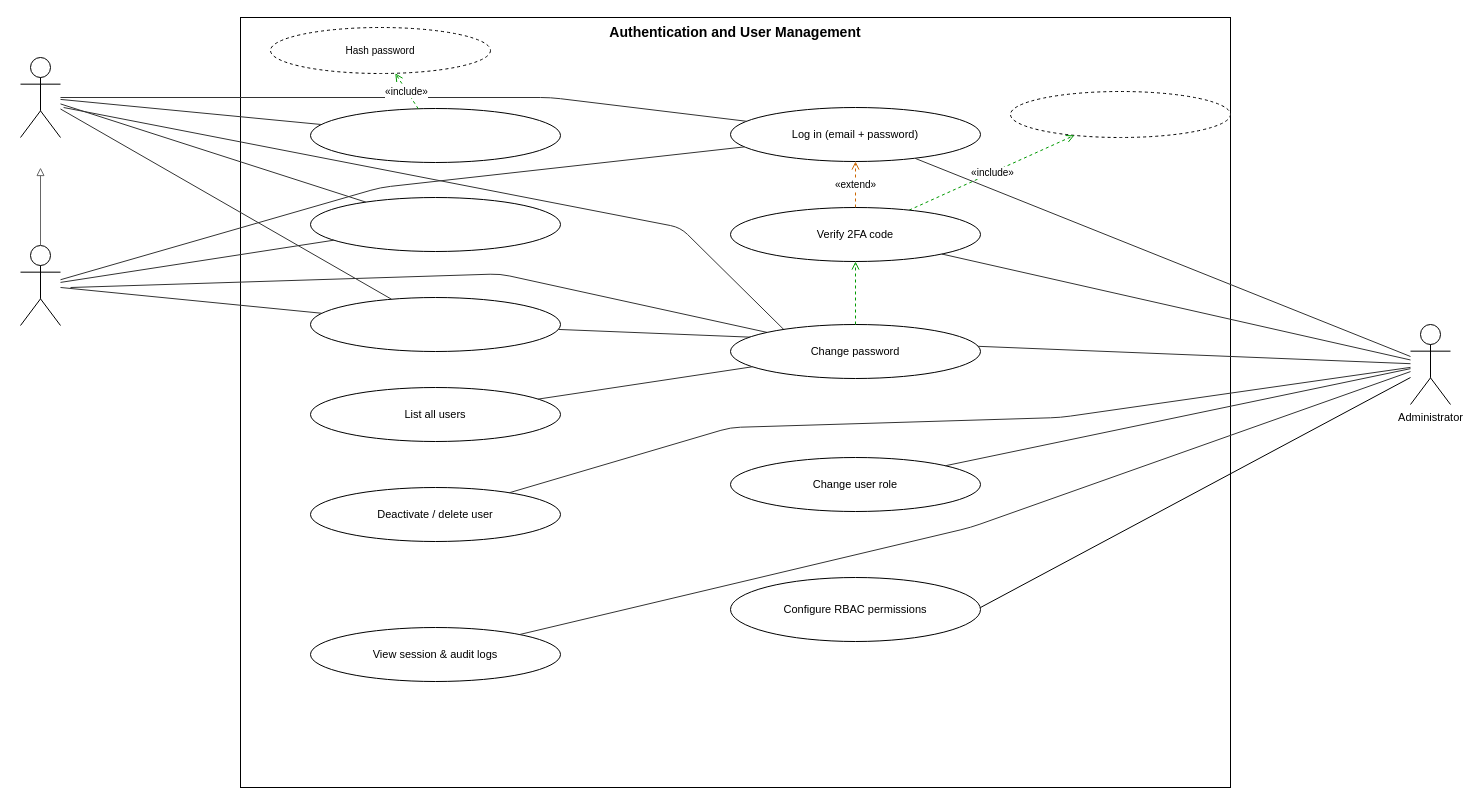
Image size: 1480x805. Some labels were removed from this diagram. Here are the shapes that lost their labels. From the top down, the centre of each, then its label:
pixel 40 97: Citizen
pixel 1120 114: Verify current password
pixel 435 135: Register account
pixel 435 224: Log in with Google
pixel 40 285: Volunteer
pixel 435 324: View / edit own profile
